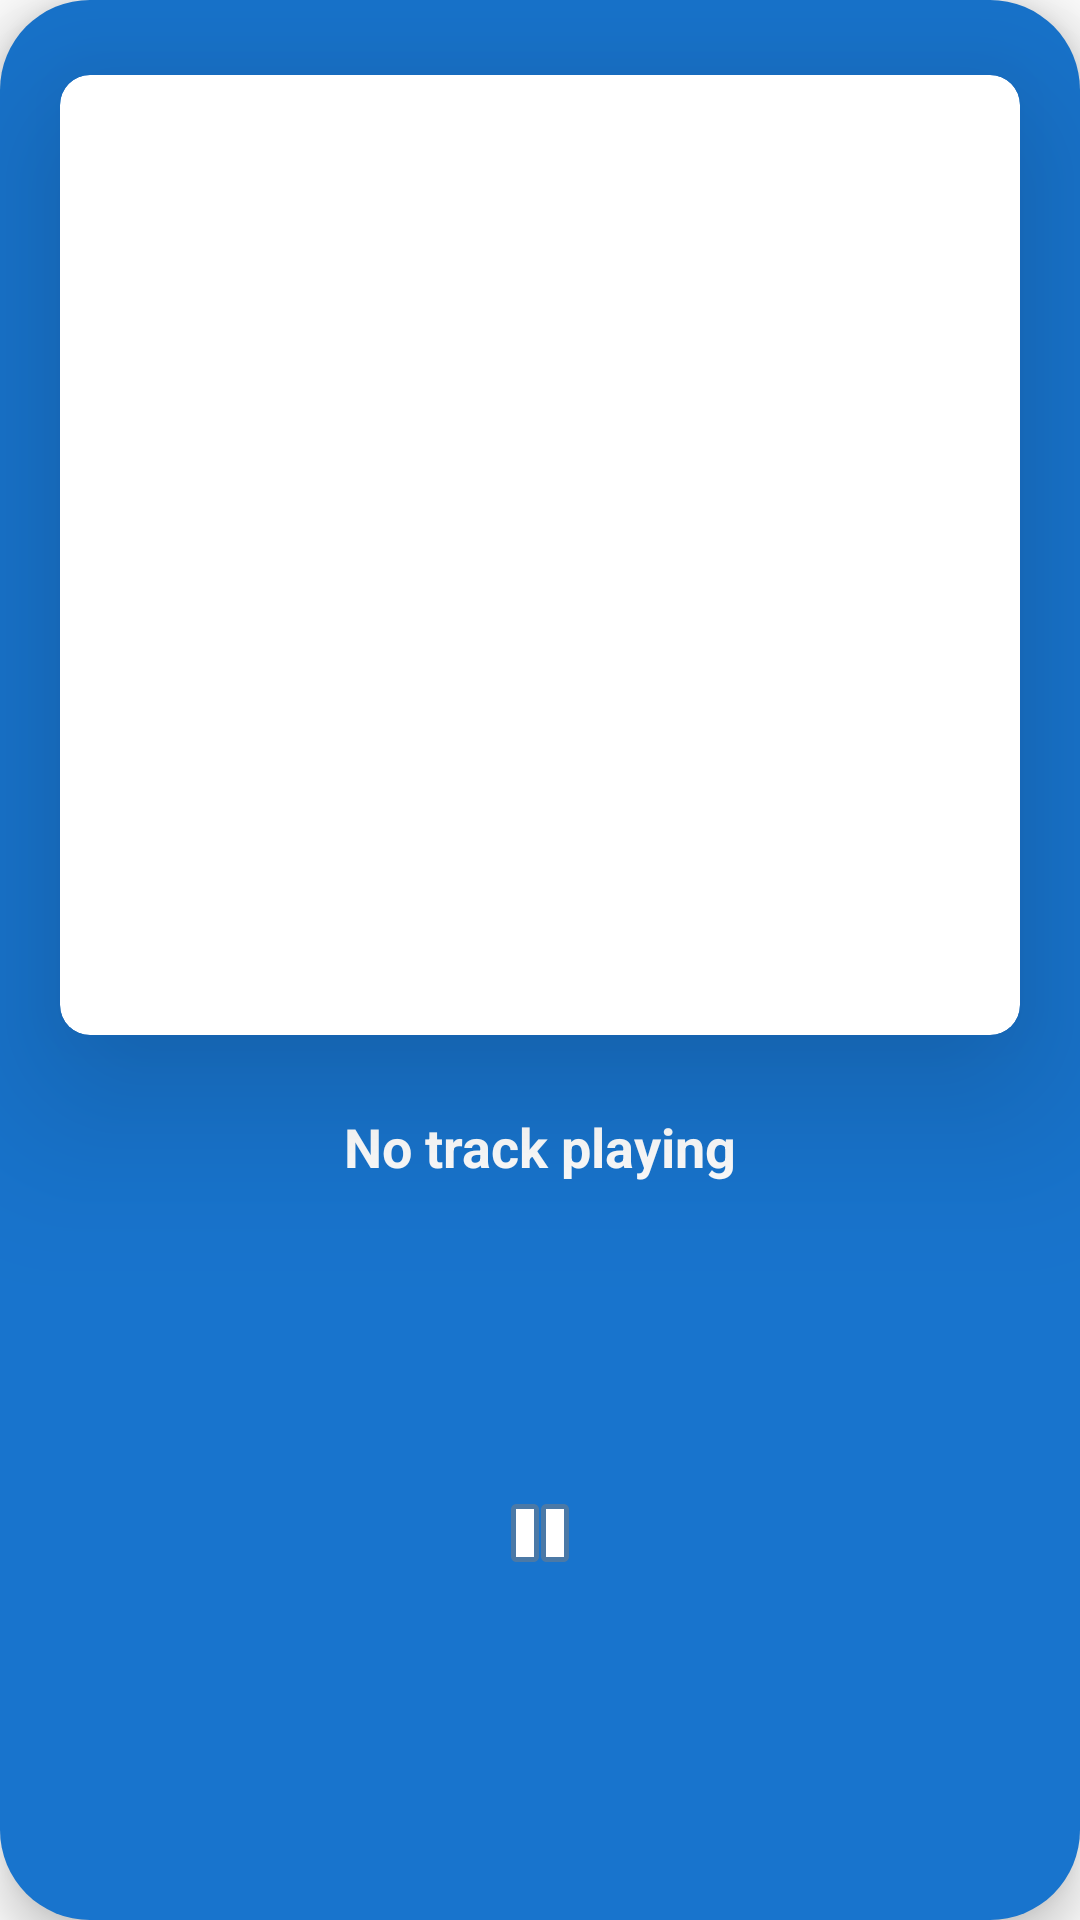

Icon bounding boxes for this 1080x1920 phone screenshot, format [left=x1, top=y1, right=x2, bottom=y2]:
Play/Pause button: [left=511, top=1504, right=569, bottom=1562]
